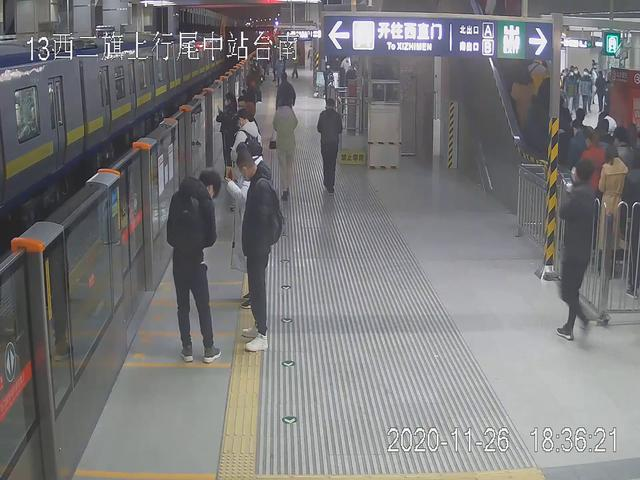person: (168, 162, 225, 365), (234, 146, 280, 353), (555, 157, 596, 340), (233, 106, 260, 220), (270, 91, 297, 200), (315, 97, 340, 194), (218, 90, 236, 183)
